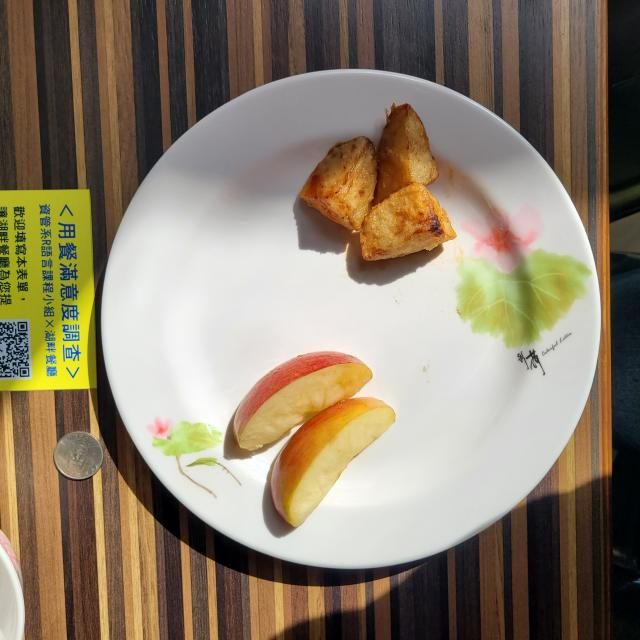apple -sliced-: (234, 351, 395, 528)
coin: (54, 431, 104, 480)
fried potato: (300, 104, 456, 260)
